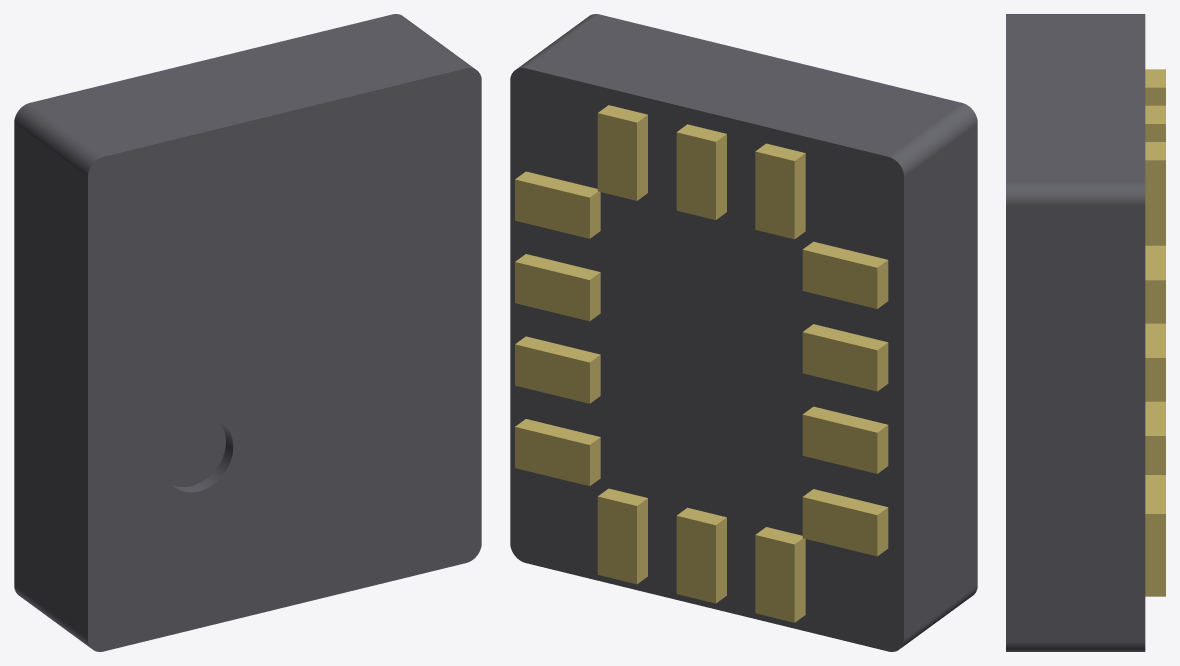
File: icm42688.glb
3 renders of one model, left to right at view 1: azimuth 30°, elevation 25°; view 2: azimuth 150°, elevation 25°; view 3: azimuth 270°, elevation 25°, orthographic. The views are drawn at different scales.
Parts seen in each view (by area): view 1: extra; view 2: extra, pins; view 3: extra, pins.
Part boxes in pixels (x1=…): extra: x1=14, y1=14, x2=481, y2=651; extra: x1=510, y1=14, x2=977, y2=651; pins: x1=515, y1=105, x2=888, y2=622; extra: x1=1006, y1=14, x2=1145, y2=651; pins: x1=1145, y1=69, x2=1165, y2=596.
Bounding box in the file's own units: 2.5 × 3 × 0.93.
